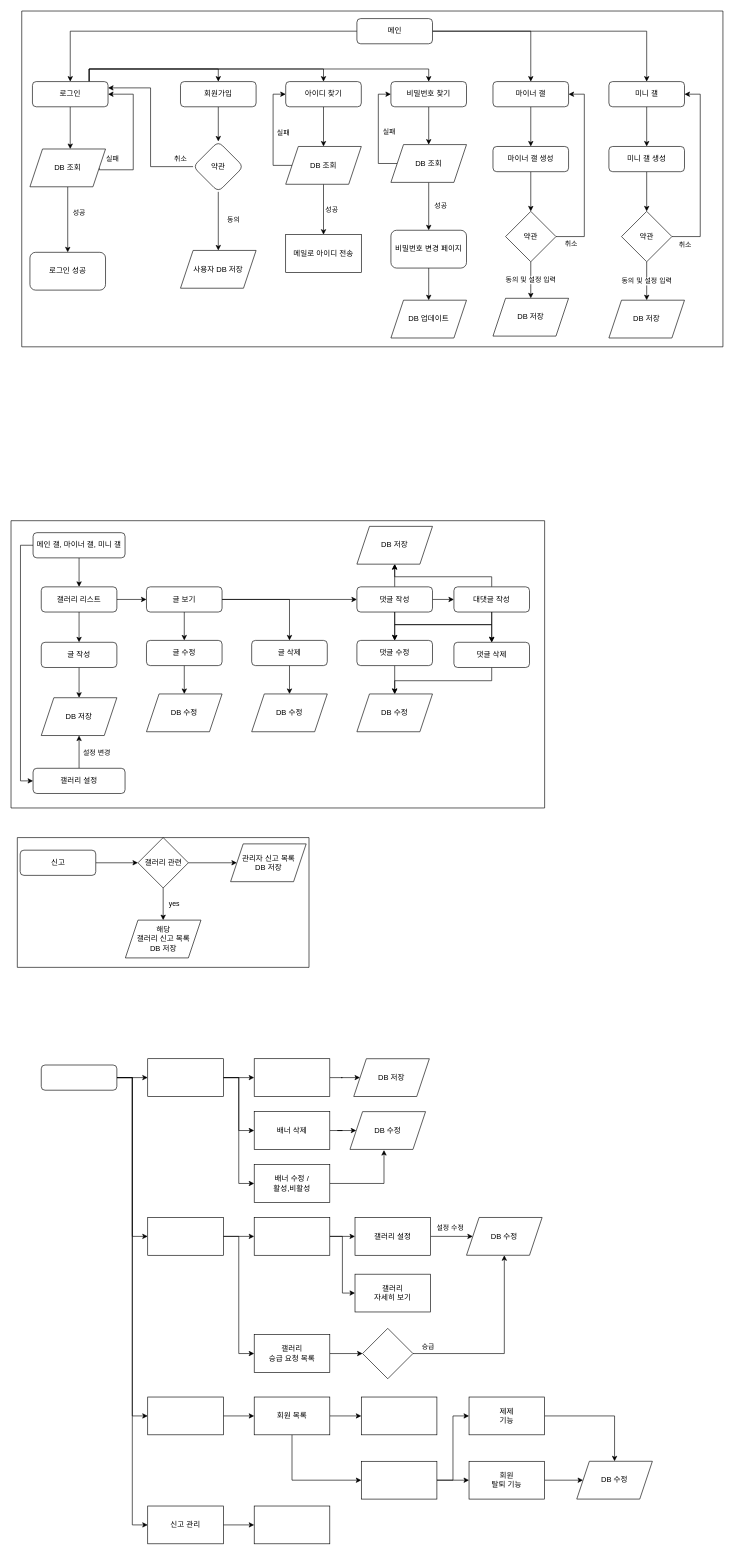
The diagram is 734 pixels wide and 1555 high, and some of its shapes have lost their labels. The shapes that lost their labels are listed below. From the top down, each one's centre as x and y in pixels, then its label:
At (x=79, y=1077): "관리자".
At (x=185, y=1077): "배너 관리".
At (x=292, y=1077): "배너 등록".
At (x=185, y=1236): "갤러리 관리".
At (x=292, y=1236): "갤러리 목록".
At (x=387, y=1353): "승급 심사".
At (x=185, y=1415): "회원 관리".
At (x=399, y=1415): "회원 검색".
At (x=399, y=1480): "회원 정보 자세히 보기".
At (x=292, y=1524): "신고 목록".
